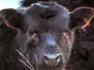muzzles: (40, 52, 63, 68)
